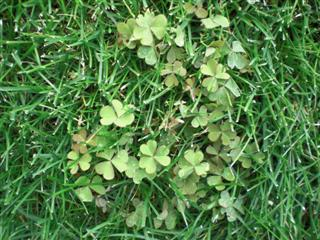oxalis: (76, 30, 265, 206)
